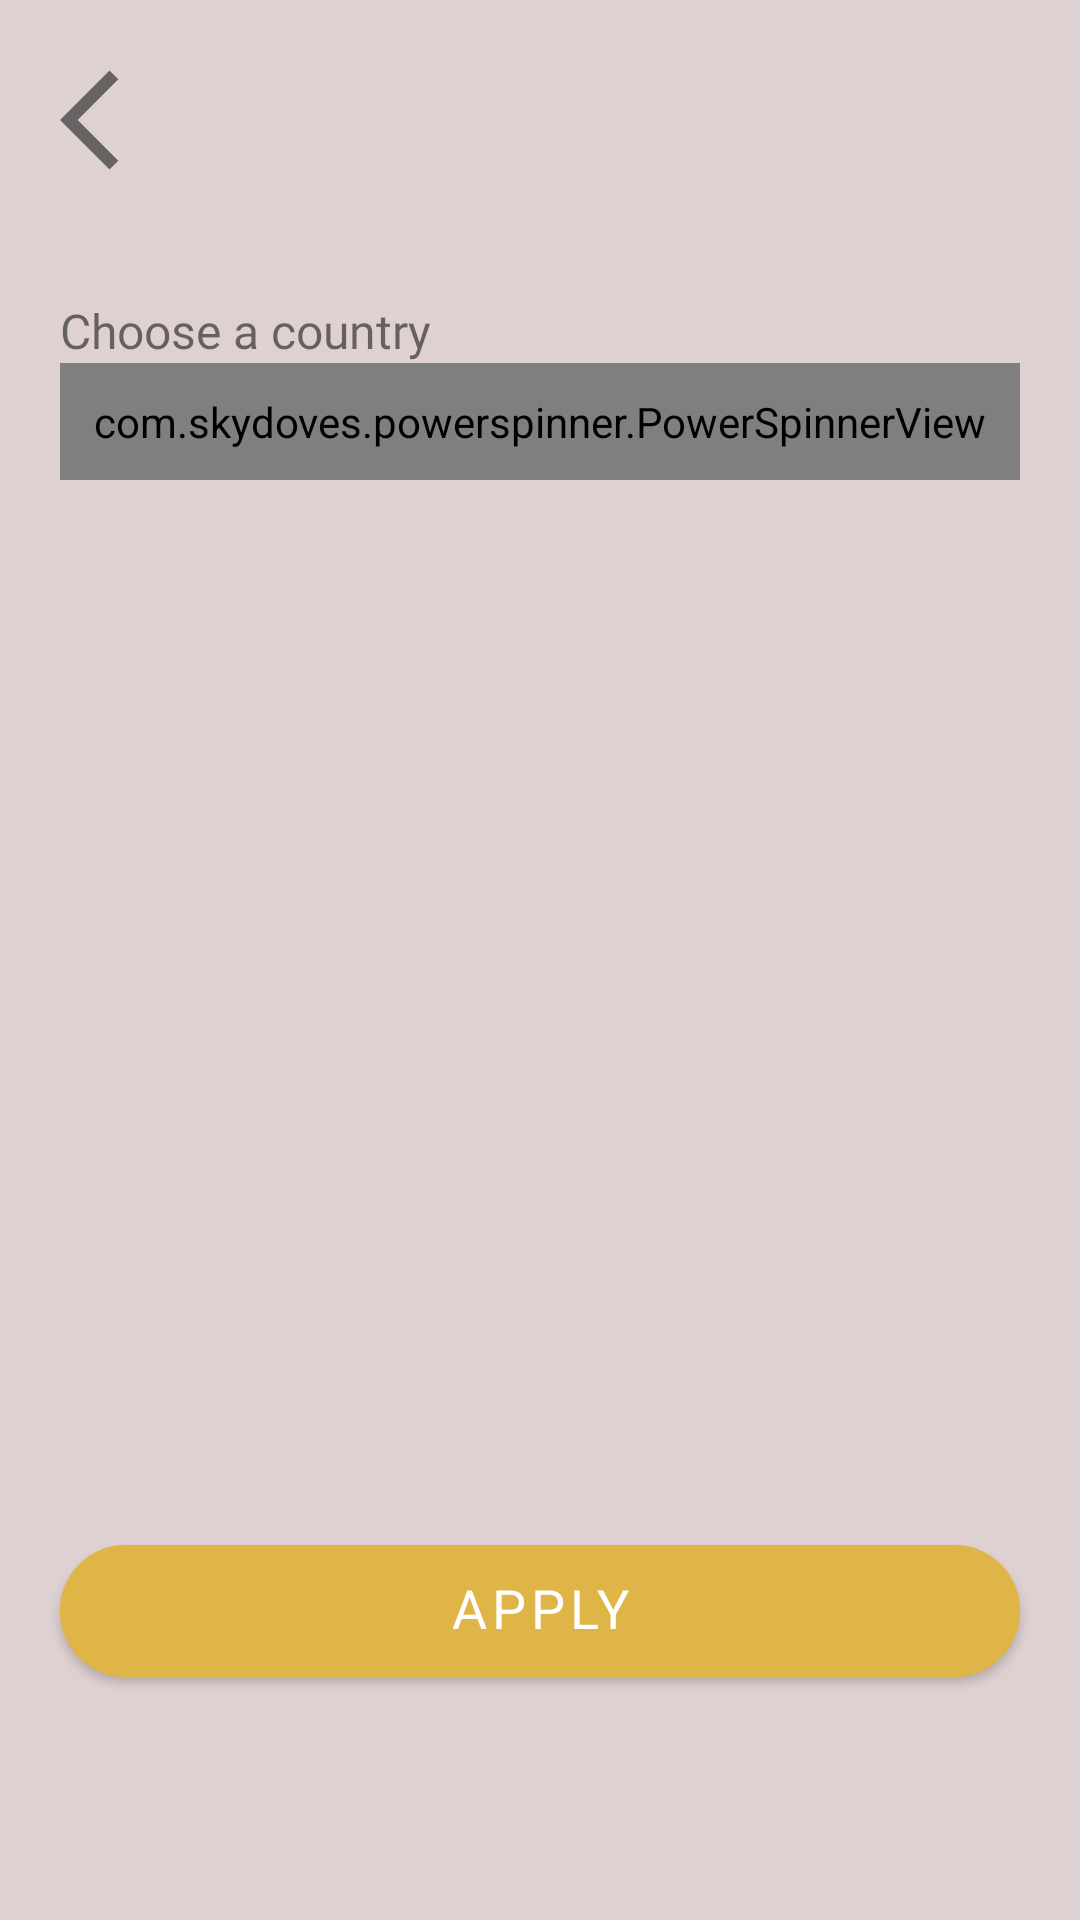

Where icons sit on this 1080*1920 app screen, as {"left": x1, "top": y1, "right": x2, "bottom": y2}:
arrow back: {"left": 60, "top": 70, "right": 118, "bottom": 170}
